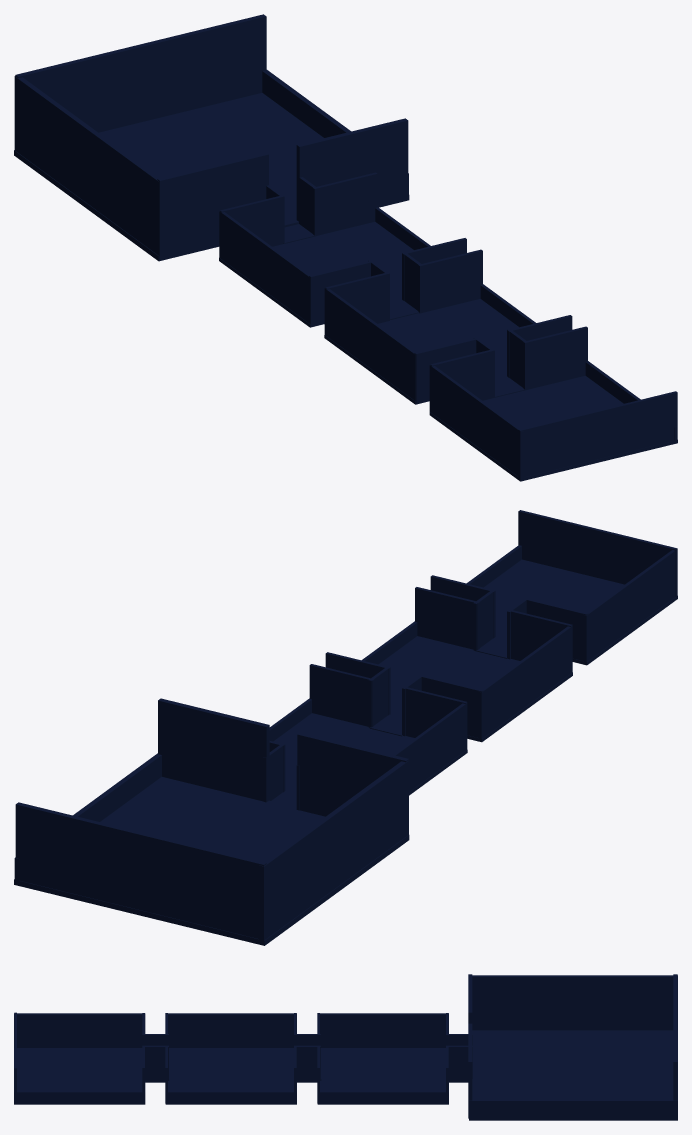
The model's file is Rooms.fbx.
3 renders of one model, top to bottom at view 1: azimuth 30°, elevation 25°; view 2: azimuth 150°, elevation 25°; view 3: azimuth 270°, elevation 25°, orthographic. The views are drawn at different scales.
Visible parts, largest first — view 1: Cube.069; view 2: Cube.069; view 3: Cube.069.
Part boxes in pixels (x1=…): Cube.069: x1=14, y1=14, x2=677, y2=481; Cube.069: x1=14, y1=510, x2=677, y2=945; Cube.069: x1=14, y1=974, x2=677, y2=1120.
Bounding box in the file's own units: 15.91 × 50.57 × 4.94.
